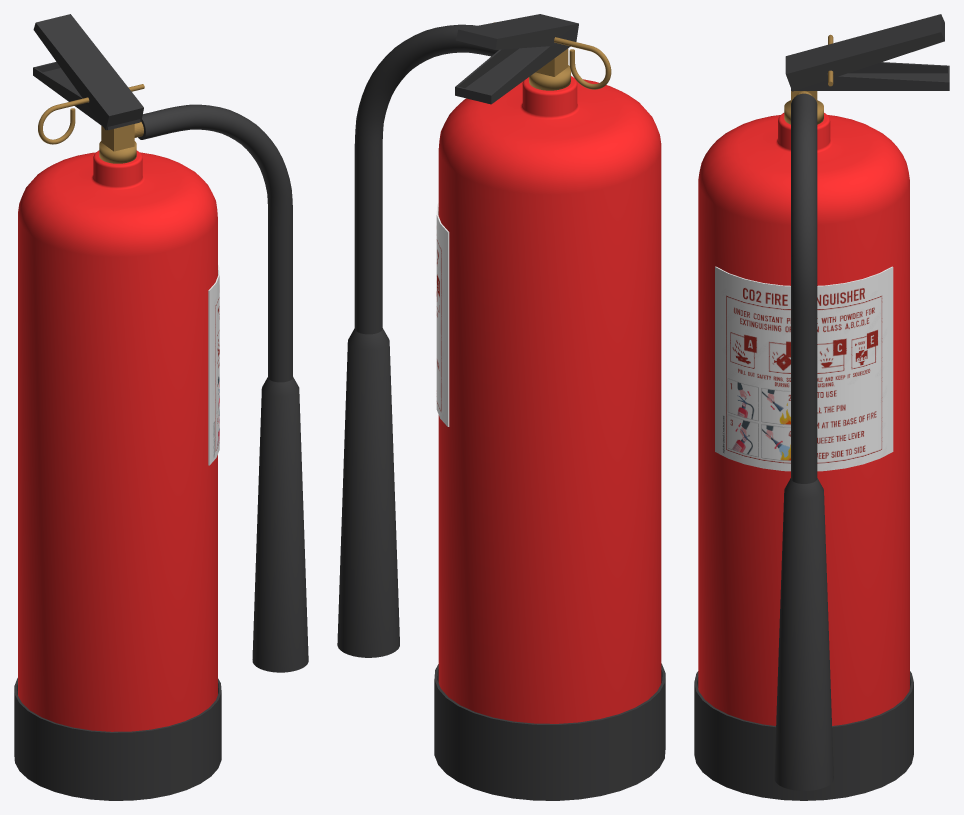
Rendered from Extinguisher.fbx.
3 views of the same model, side by side, from view 1: azimuth 30°, elevation 25°; view 2: azimuth 150°, elevation 25°; view 3: azimuth 270°, elevation 25° (orthographic). The views are drawn at different scales.
Parts seen in each view (by area): view 1: Extinguisher Body, Extinguisher Hose, Extinguisher Mount, Extinguisher HandleU, Extinguisher PASS Decal, Extinguisher Neck, Extinguisher HandleL, Extinguisher Pin; view 2: Extinguisher Body, Extinguisher Hose, Extinguisher Mount, Extinguisher HandleL, Extinguisher HandleU, Extinguisher PASS Decal, Extinguisher Neck, Extinguisher Pin; view 3: Extinguisher Body, Extinguisher PASS Decal, Extinguisher Hose, Extinguisher Mount, Extinguisher HandleU, Extinguisher HandleL.
Boxes of the visible parts, x1,y1,x2,y2 form: Extinguisher Body: (18, 150, 217, 731); Extinguisher Hose: (138, 104, 308, 672); Extinguisher Mount: (14, 678, 221, 800); Extinguisher HandleU: (33, 14, 143, 130); Extinguisher PASS Decal: (208, 265, 219, 465); Extinguisher Neck: (99, 122, 143, 163); Extinguisher HandleL: (33, 61, 140, 130); Extinguisher Pin: (38, 84, 144, 144); Extinguisher Body: (438, 76, 661, 723); Extinguisher Hose: (337, 24, 498, 657); Extinguisher Mount: (434, 663, 665, 800); Extinguisher HandleL: (455, 45, 570, 104); Extinguisher HandleU: (456, 14, 578, 49); Extinguisher PASS Decal: (436, 203, 449, 426); Extinguisher Neck: (529, 48, 570, 90); Extinguisher Pin: (494, 22, 611, 89); Extinguisher Body: (698, 113, 909, 725); Extinguisher PASS Decal: (715, 266, 893, 471); Extinguisher Hose: (774, 93, 833, 790); Extinguisher Mount: (694, 671, 913, 800); Extinguisher HandleU: (785, 14, 944, 91); Extinguisher HandleL: (791, 62, 949, 90).
Size of the model in its own units: 19.3 by 25.55 by 60.95.
4 materials, 1 textured.
